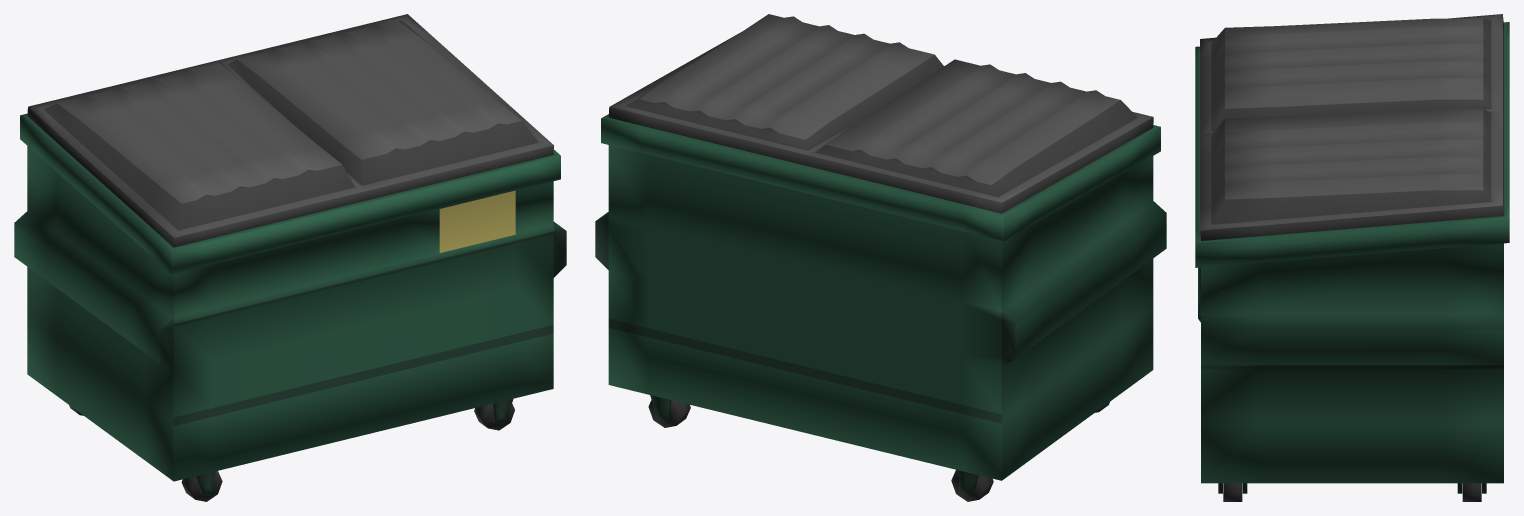
File: Dumpster.gltf
3 views of the same model, side by side, from view 1: azimuth 30°, elevation 25°; view 2: azimuth 150°, elevation 25°; view 3: azimuth 270°, elevation 25° (orthographic). The views are drawn at different scales.
Parts seen in each view (by area): view 1: color.005, base.017; view 2: color.005, base.017; view 3: color.005, base.017.
Part boxes in pixels (x1=…): color.005: x1=14, y1=113, x2=566, y2=495; base.017: x1=27, y1=14, x2=553, y2=501; color.005: x1=595, y1=114, x2=1166, y2=495; base.017: x1=608, y1=14, x2=1153, y2=501; color.005: x1=1195, y1=22, x2=1509, y2=493; base.017: x1=1200, y1=14, x2=1503, y2=501.
Size of the model in its own units: 236 by 175 by 153.
